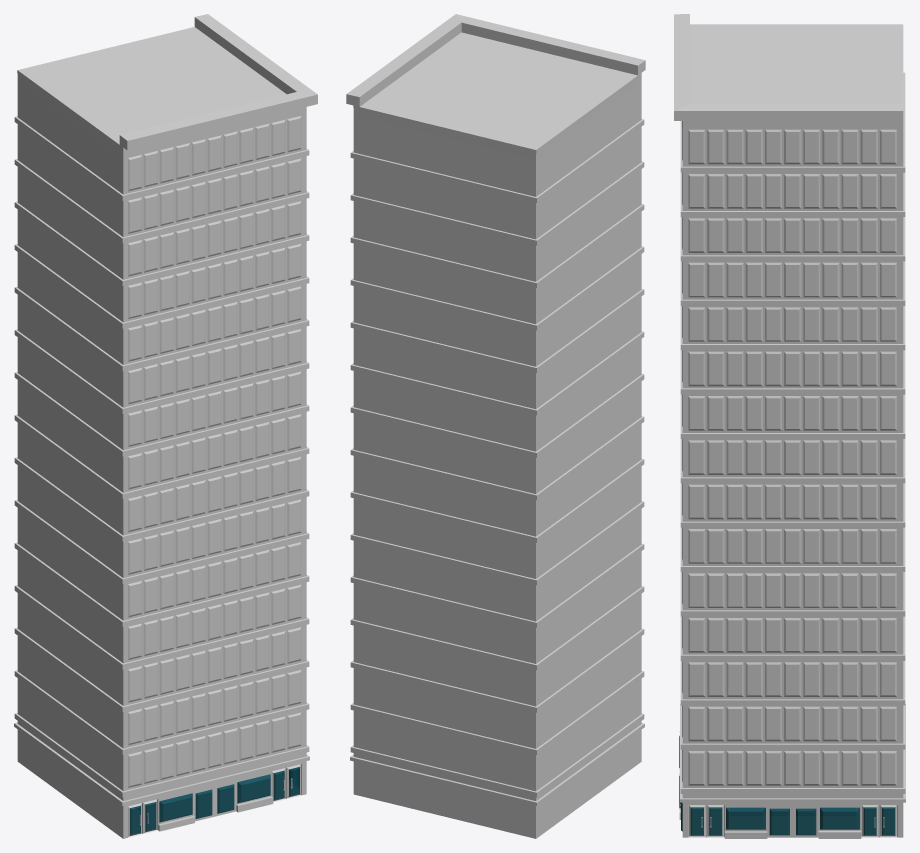
File: building_office_corner_02_large.fbx
3 renders of one model, left to right at view 1: azimuth 30°, elevation 25°; view 2: azimuth 150°, elevation 25°; view 3: azimuth 270°, elevation 25°, orthographic. The views are drawn at different scales.
Parts seen in each view (by area): view 1: building_office_corner_02_large, building_office_corner_02_large_glass; view 2: building_office_corner_02_large; view 3: building_office_corner_02_large, building_office_corner_02_large_glass.
Boxes of the visible parts, x1,y1,x2,y2 form: building_office_corner_02_large: (14,14,317,838); building_office_corner_02_large_glass: (130,767,299,834); building_office_corner_02_large: (346,14,645,838); building_office_corner_02_large: (674,14,905,838); building_office_corner_02_large_glass: (679,736,895,835).
Bounding box in the file's own units: 1893 × 6583 × 1893.
